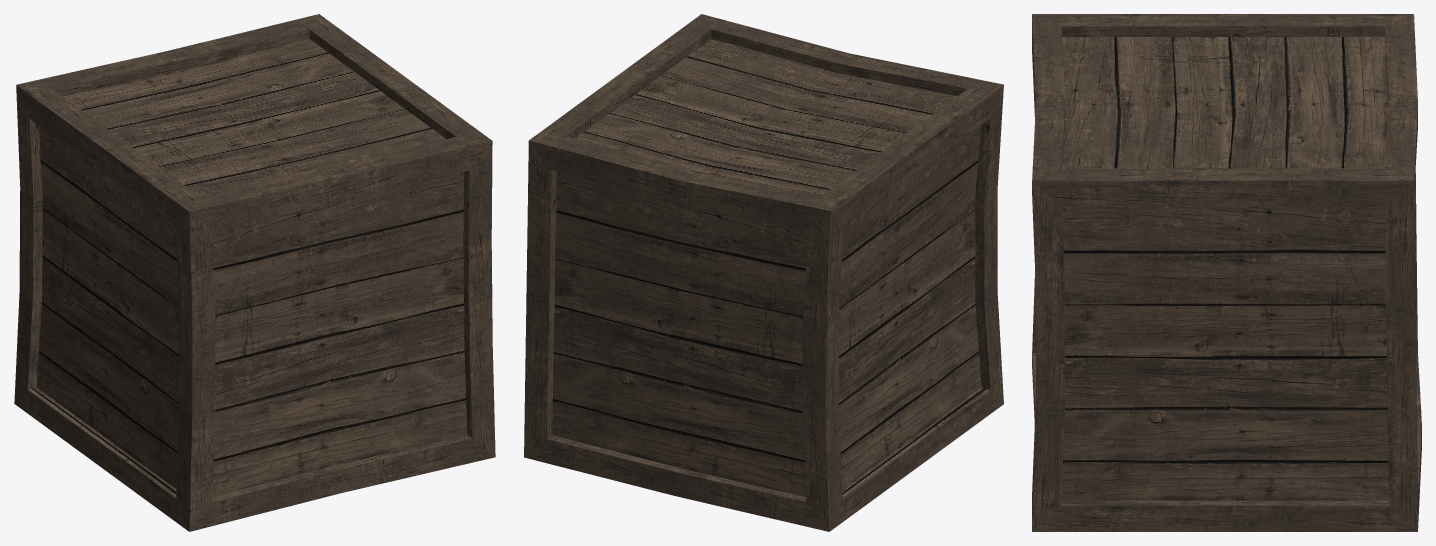
Rendered from f1_crate.dae.
3 renders of one model, left to right at view 1: azimuth 30°, elevation 25°; view 2: azimuth 150°, elevation 25°; view 3: azimuth 270°, elevation 25°, orthographic. The views are drawn at different scales.
Parts seen in each view (by area): view 1: f1_crate_Layer1; view 2: f1_crate_Layer1; view 3: f1_crate_Layer1.
Boxes of the visible parts, x1=… form: f1_crate_Layer1: x1=14, y1=14, x2=495, y2=531; f1_crate_Layer1: x1=524, y1=14, x2=1003, y2=531; f1_crate_Layer1: x1=1032, y1=14, x2=1421, y2=531.
Bounding box in the file's own units: 1 × 1 × 1.
